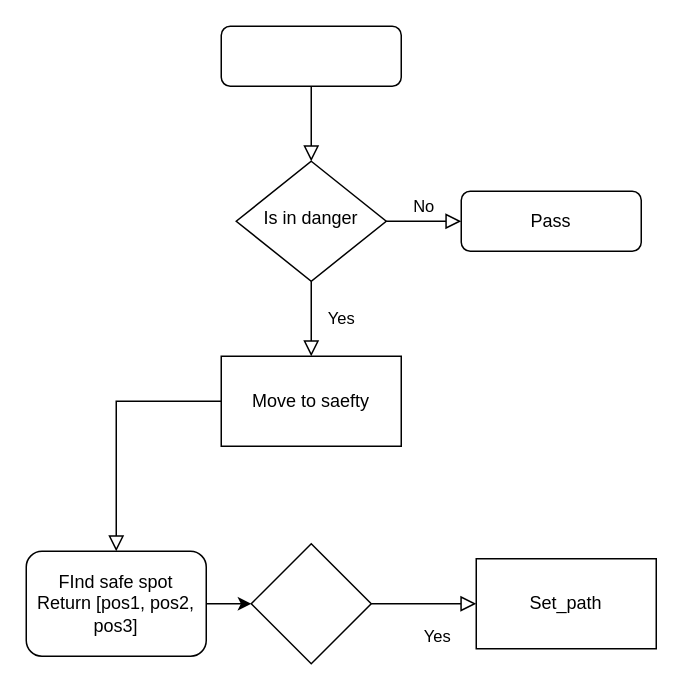
Some shapes in this 683 by 690 pixel diagram are drawn without their labels. Each missing label, with the box of its shape:
AI oponent: (220, 25, 401, 86)
If safespot: (250, 542, 371, 664)
